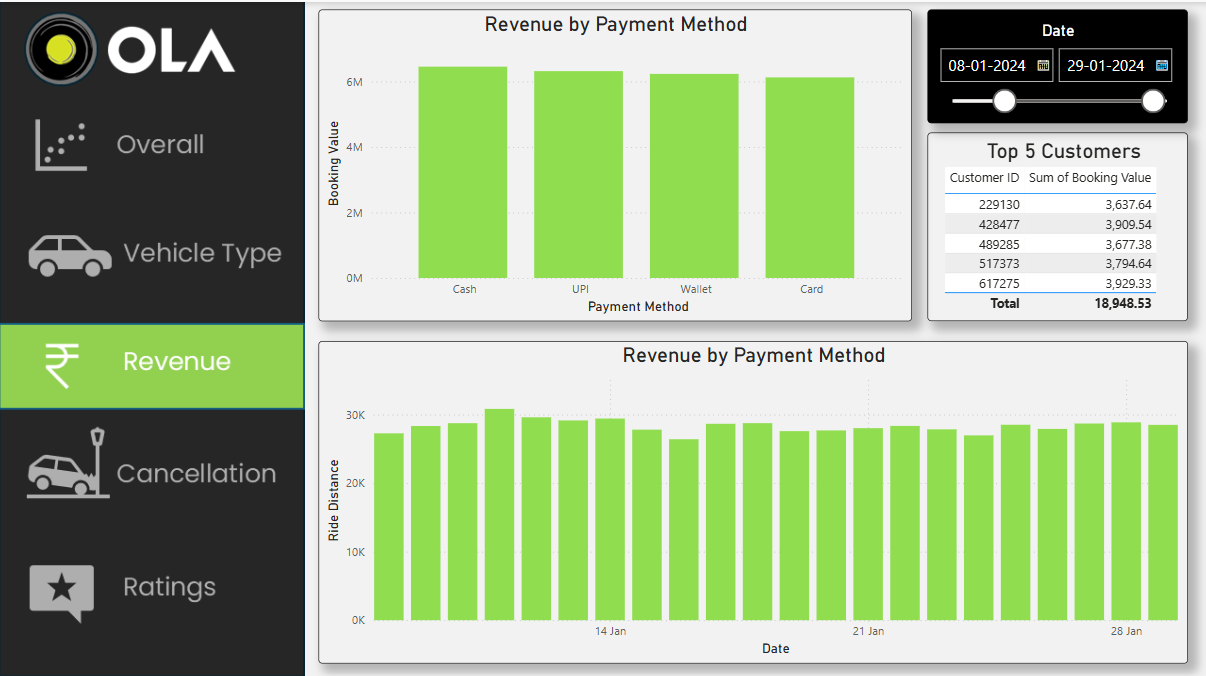

Layout of this report page (visuals, bound fields, positions):
{"tool":"powerbi","page":{"name":"Revenue","canvas":[1280,720],"ordinal":2},"visuals":[{"type":"actionButton","box":[0,221.7,323.3,90],"z":0},{"type":"actionButton","box":[0,446.7,323.3,90],"z":1000},{"type":"actionButton","box":[0,106.7,323.3,90],"z":2000},{"type":"actionButton","box":[0,580,323.3,90],"z":3000},{"type":"columnChart","title":"Revenue by Payment Method","fields":{"Y":["Sum(Bengaluru_Ola_Booking_Data.Booking Value)"],"Category":["Bengaluru_Ola_Booking_Data.Payment Method"]},"box":[338.3,7.6,629.3,330.7],"z":4000},{"type":"columnChart","title":"Revenue by Payment Method","fields":{"Y":["Sum(Bengaluru_Ola_Booking_Data.Ride Distance)"],"Category":["Bengaluru_Ola_Booking_Data.Date"]},"box":[338.3,359.1,922.2,342],"z":5000},{"type":"slicer","title":"Date","fields":{"Values":["Bengaluru_Ola_Booking_Data.Date"]},"box":[984.6,7.6,275.9,120.9],"z":6000},{"type":"tableEx","title":"Top 5 Customers","fields":{"Values":["Bengaluru_Ola_Booking_Data.Customer ID","Sum(Bengaluru_Ola_Booking_Data.Booking Value)"]},"box":[984.6,138,275.9,200.3],"z":7000}]}

Visuals, with their boxes in screenshot pixels (x1, y1, x2, y2), scaled from the page's 1280x720 canvas onto the 1206x676 screenshot:
actionButton: box=[0, 208, 305, 293]
actionButton: box=[0, 419, 305, 504]
actionButton: box=[0, 100, 305, 185]
actionButton: box=[0, 545, 305, 629]
"Revenue by Payment Method" columnChart: box=[319, 7, 912, 318]
"Revenue by Payment Method" columnChart: box=[319, 337, 1188, 658]
"Date" slicer: box=[928, 7, 1188, 121]
"Top 5 Customers" tableEx: box=[928, 130, 1188, 318]
